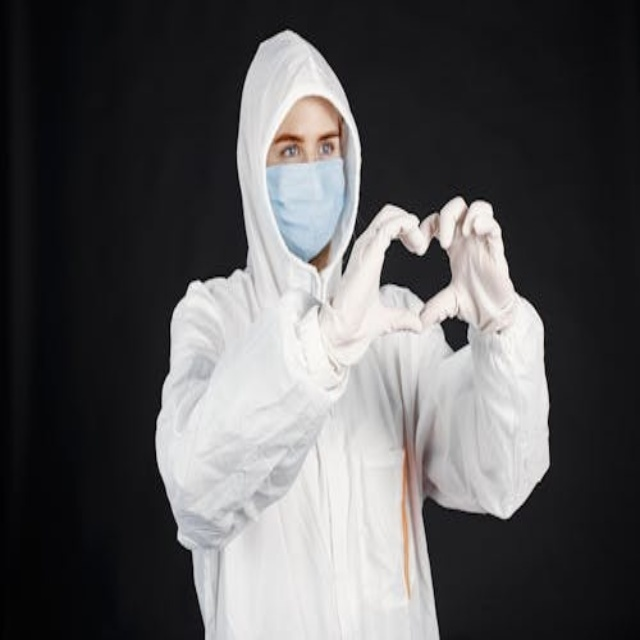Guantes: (311, 203, 432, 378), (419, 195, 519, 337)
Mascara: (265, 155, 347, 260)
Sin_gafas: (276, 117, 343, 167)
